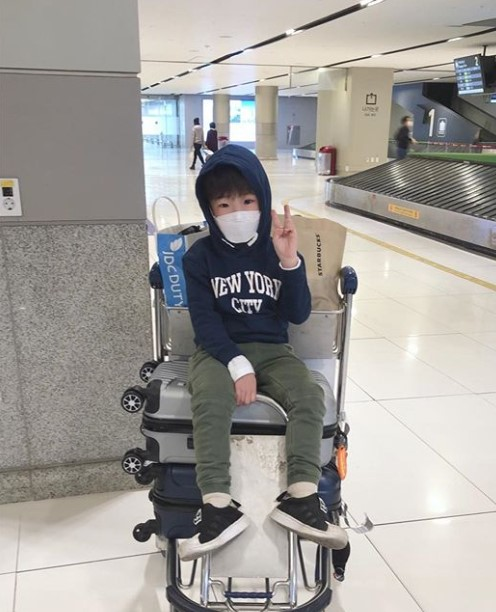face_with_mask: (196, 150, 271, 243)
